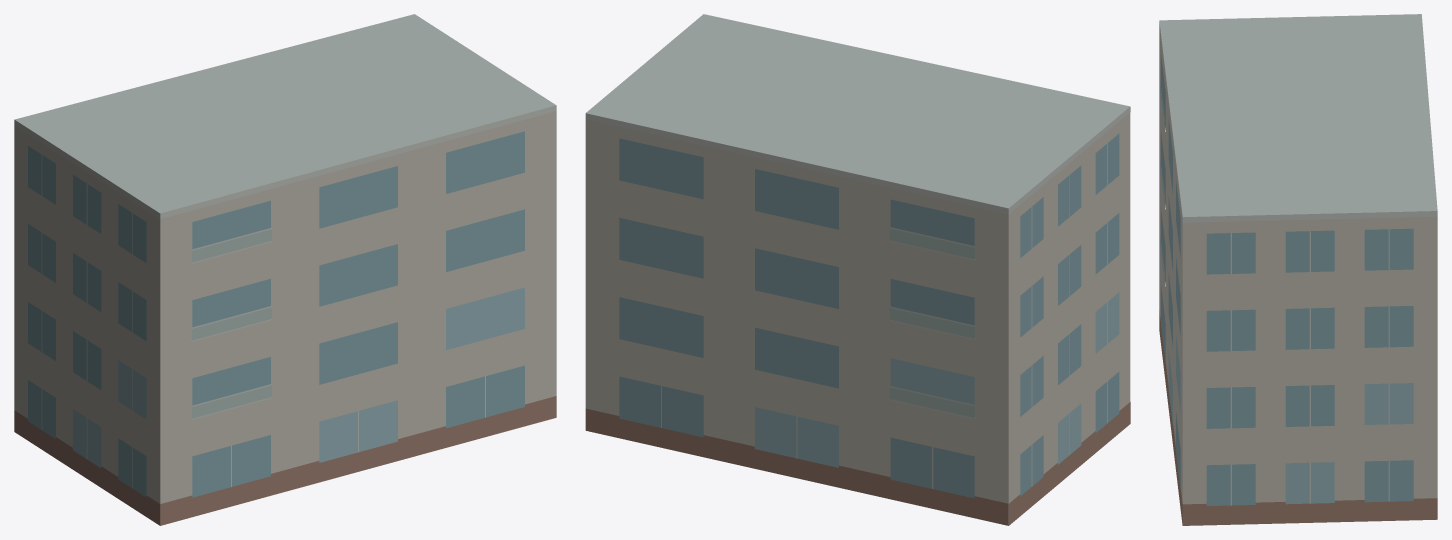
Rendered from survey-upis-32725227.glb.
3 views of the same model, side by side, from view 1: azimuth 30°, elevation 25°; view 2: azimuth 150°, elevation 25°; view 3: azimuth 270°, elevation 25° (orthographic). The views are drawn at different scales.
Parts seen in each view (by area): view 1: survey-upis-32725227.tmp; view 2: survey-upis-32725227.tmp; view 3: survey-upis-32725227.tmp.
Part boxes in pixels (left/top/right/bottom): survey-upis-32725227.tmp: left=14, top=14, right=556, bottom=525; survey-upis-32725227.tmp: left=585, top=14, right=1130, bottom=525; survey-upis-32725227.tmp: left=1159, top=14, right=1437, bottom=525.
Size of the model in its own units: 18.64 by 13.2 by 10.8.
